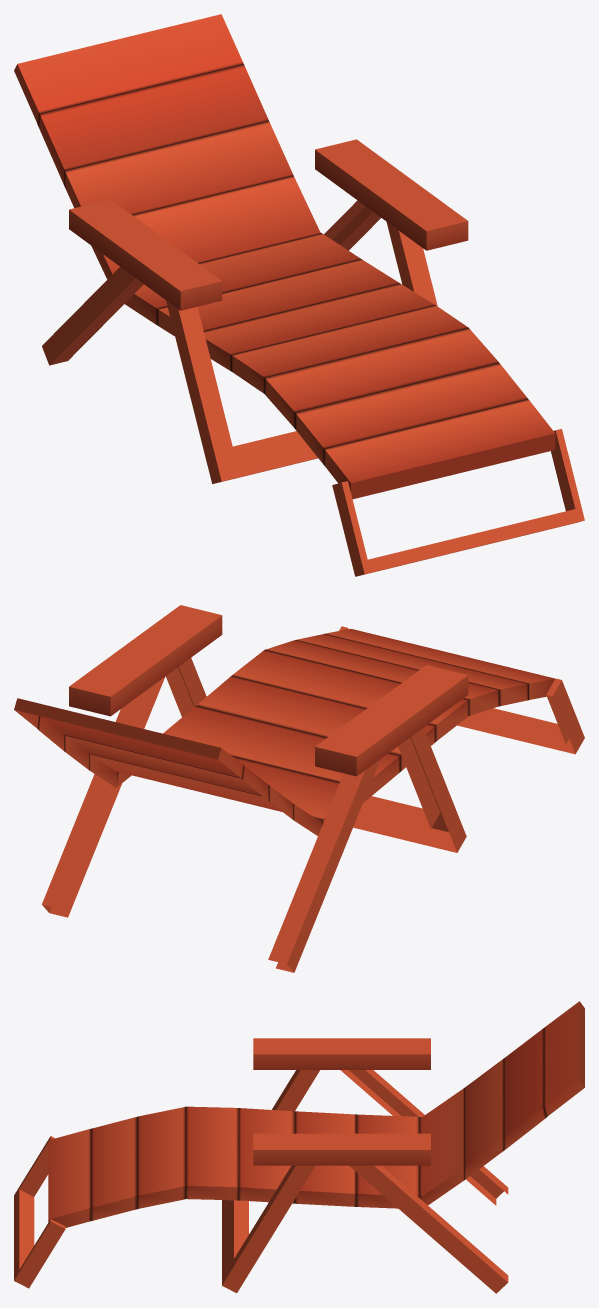
The model's file is Chairs.fbx.
The picture shows the model from 3 angles, top to bottom: view 1: azimuth 30°, elevation 25°; view 2: azimuth 150°, elevation 25°; view 3: azimuth 270°, elevation 25°; orthographic projection. The views are drawn at different scales.
Parts seen in each view (by area): view 1: polySurface7; view 2: polySurface7; view 3: polySurface7.
Boxes of the visible parts, bbox=[...] form: polySurface7: bbox=[14, 14, 584, 576]; polySurface7: bbox=[14, 605, 584, 972]; polySurface7: bbox=[14, 1001, 584, 1293].
Size of the model in its own units: 107 by 91.79 by 231.
